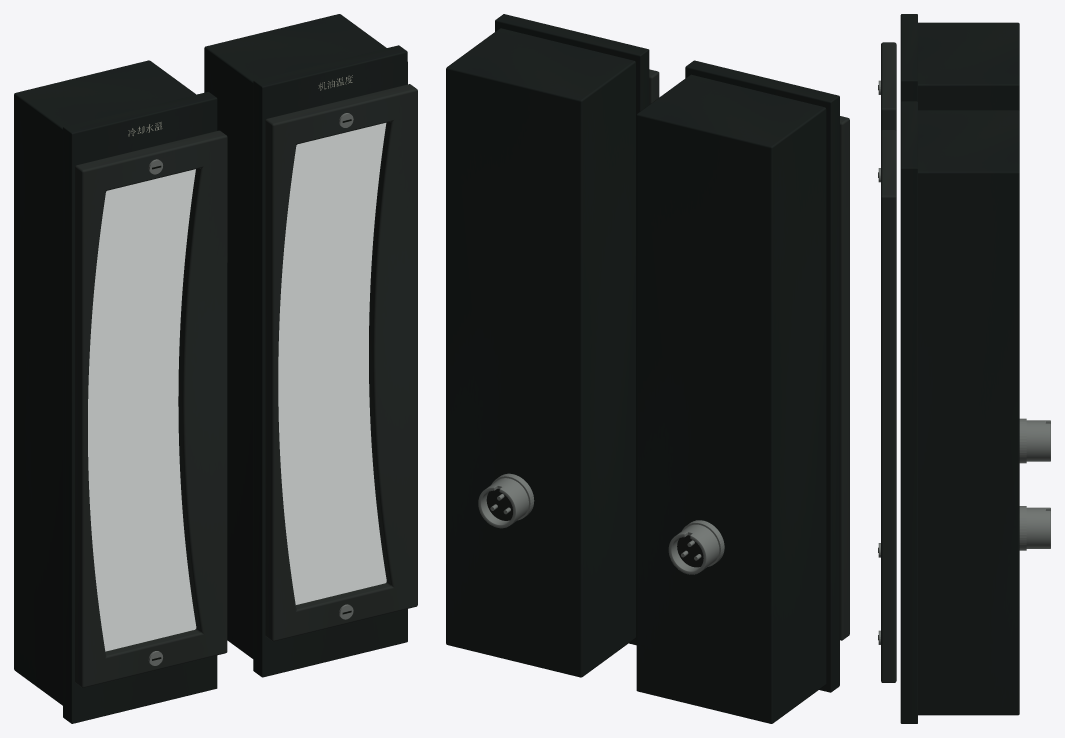
File: TemperatureGauges_final.fbx
3 renders of one model, left to right at view 1: azimuth 30°, elevation 25°; view 2: azimuth 150°, elevation 25°; view 3: azimuth 270°, elevation 25°, orthographic. The views are drawn at different scales.
Visible parts, largest first — view 1: Oil_Fixed_Protective_Glass, Water_Fixed_Protective_Glass, Water_Fixed_Raised_Metal_Bezel, Oil_Fixed_Raised_Metal_Bezel, Water_Fixed_Rear_Housing, Oil_Fixed_Rear_Housing, Oil_Fixed_Front_Frame, Water_Fixed_Front_Frame; view 2: Water_Fixed_Rear_Housing, Oil_Fixed_Rear_Housing, Water_Fixed_Front_Frame, Water_Fixed_Raised_Metal_Bezel, Oil_Fixed_Front_Frame, Water_RPM_Connector_Shell, Oil_RPM_Connector_Shell; view 3: Oil_Fixed_Rear_Housing, Oil_Fixed_Front_Frame, Water_Fixed_Rear_Housing, Oil_Fixed_Raised_Metal_Bezel, Water_Fixed_Front_Frame, Water_Fixed_Raised_Metal_Bezel, Water_RPM_Connector_Shell, Oil_RPM_Connector_Shell, Water_RPM_Rear_Connector_Seat, Oil_RPM_Rear_Connector_Seat.
Boxes of the visible parts, x1,y1,x2,y2 form: Oil_Fixed_Protective_Glass: [278, 123, 386, 604]; Water_Fixed_Protective_Glass: [88, 169, 196, 651]; Water_Fixed_Raised_Metal_Bezel: [75, 130, 227, 687]; Oil_Fixed_Raised_Metal_Bezel: [265, 84, 417, 641]; Water_Fixed_Rear_Housing: [14, 60, 195, 705]; Oil_Fixed_Rear_Housing: [204, 14, 386, 658]; Oil_Fixed_Front_Frame: [253, 45, 407, 677]; Water_Fixed_Front_Frame: [63, 92, 217, 723]; Water_Fixed_Rear_Housing: [636, 74, 826, 723]; Oil_Fixed_Rear_Housing: [446, 28, 635, 677]; Water_Fixed_Front_Frame: [685, 60, 839, 692]; Water_Fixed_Raised_Metal_Bezel: [840, 116, 849, 640]; Oil_Fixed_Front_Frame: [495, 14, 649, 645]; Water_RPM_Connector_Shell: [668, 524, 719, 574]; Oil_RPM_Connector_Shell: [478, 478, 528, 528]; Oil_Fixed_Rear_Housing: [918, 110, 1019, 715]; Oil_Fixed_Front_Frame: [900, 101, 917, 723]; Water_Fixed_Rear_Housing: [918, 22, 1019, 110]; Oil_Fixed_Raised_Metal_Bezel: [881, 130, 896, 682]; Water_Fixed_Front_Frame: [900, 14, 917, 102]; Water_Fixed_Raised_Metal_Bezel: [881, 42, 896, 131]; Water_RPM_Connector_Shell: [1026, 420, 1050, 461]; Oil_RPM_Connector_Shell: [1026, 507, 1050, 548]; Water_RPM_Rear_Connector_Seat: [1019, 418, 1026, 463]; Oil_RPM_Rear_Connector_Seat: [1019, 506, 1026, 550].
Size of the model in its own units: 10.6 by 17.8 by 5.01.
Materials: 10 (3 with a texture image).
